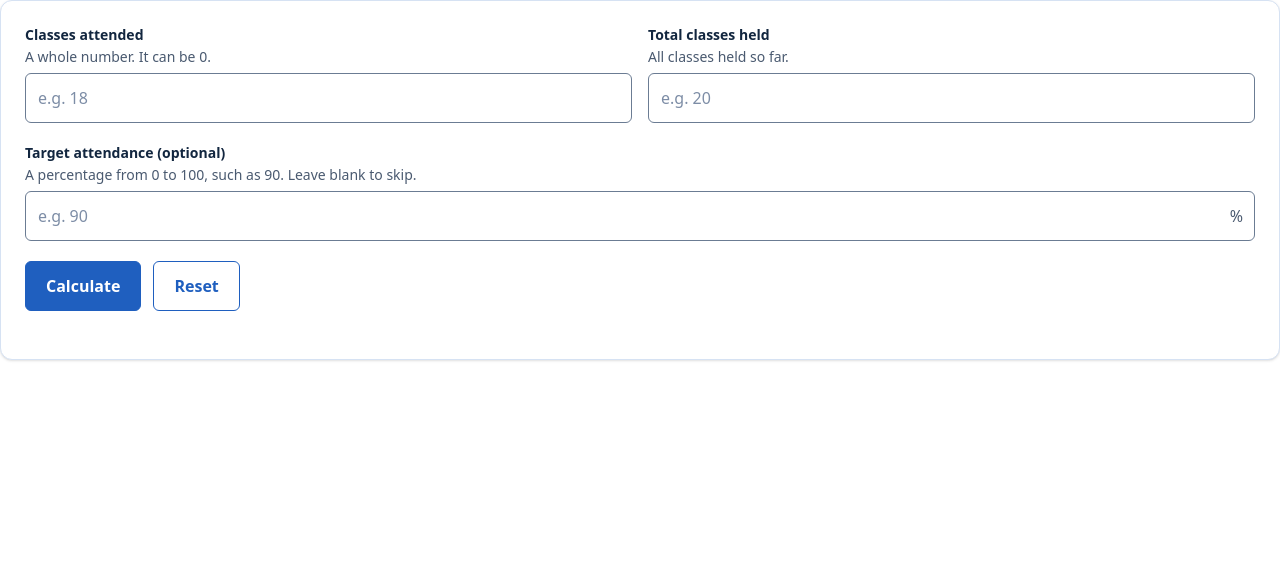
Test case: AttendanceCalculator › calculates attendance: 18 of 20 is 90% with 2 missed
This screenshot has width=1280, height=565.
Type "18" into the field labelled "Classes attended" at (328,98), box [25,73,632,123]
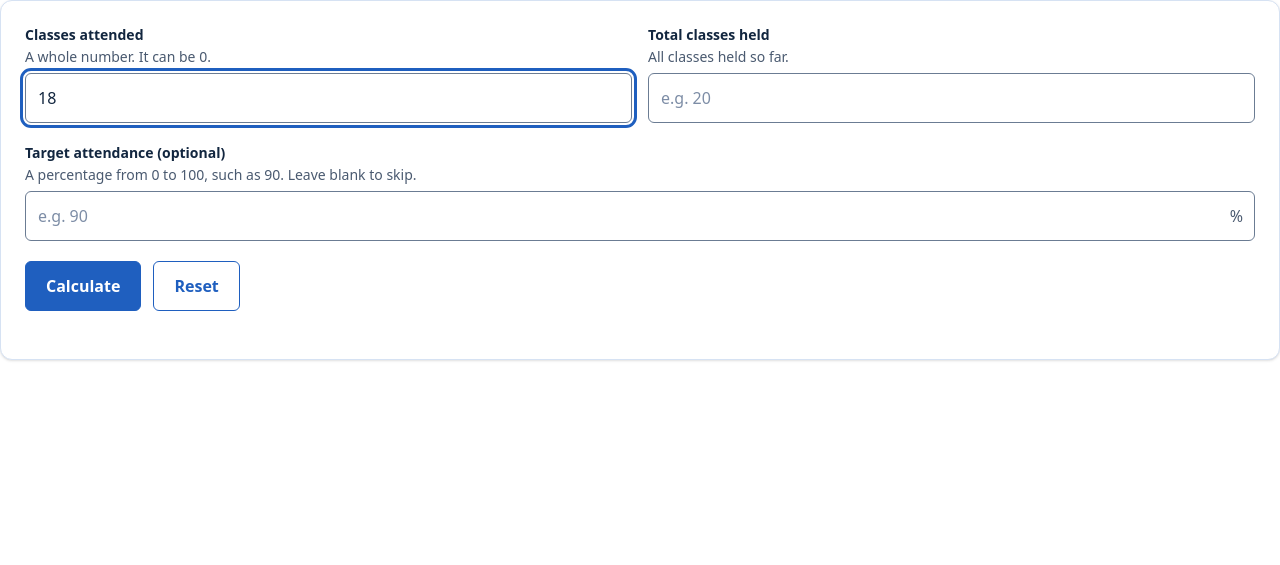
Type "20" into the field labelled "Total classes held" at (952,98), box [648,73,1255,123]
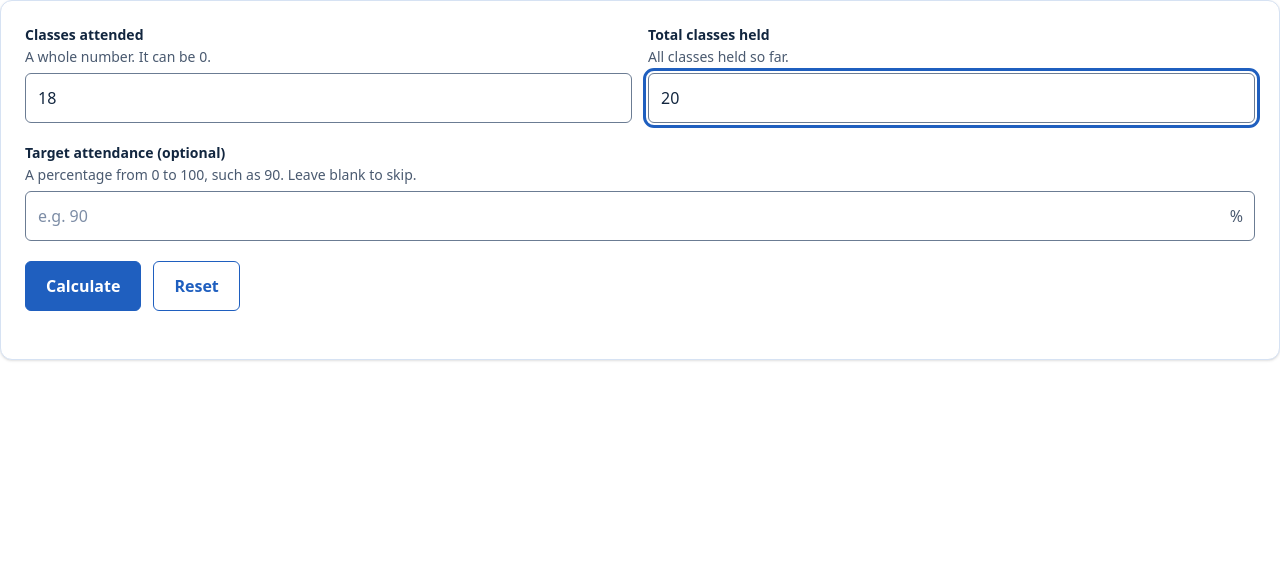
Click the button "Calculate" at (83,286), box [25,261,141,311]
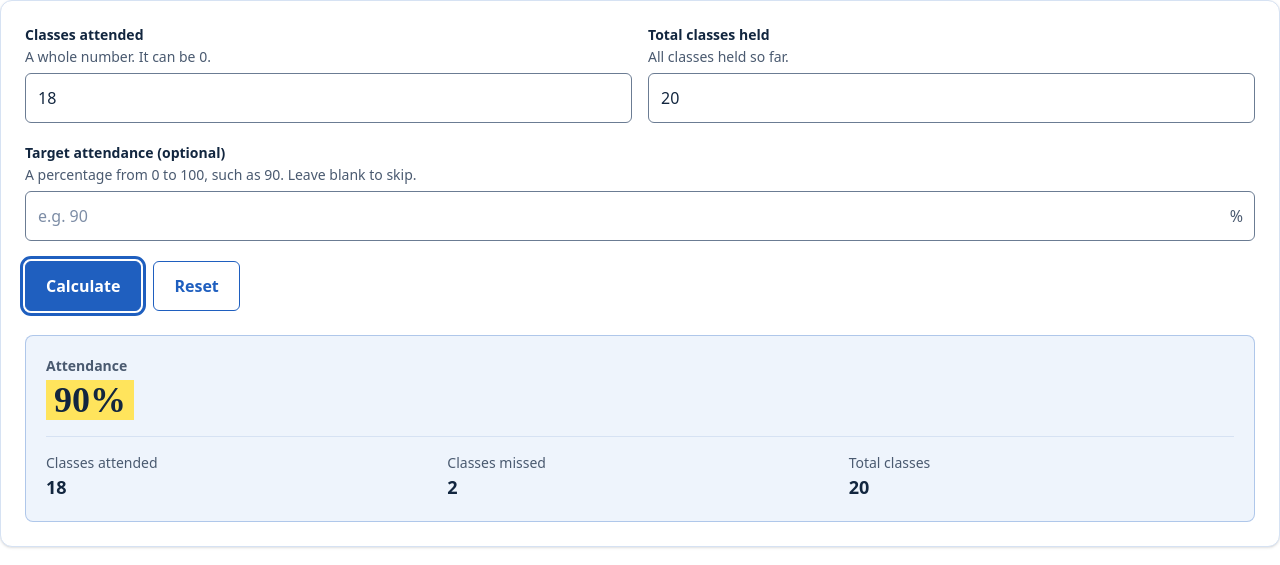
Check: the text "90%" is shown, box [46,380,134,420]
Check: the text "2" is shown, box [447,475,458,499]
